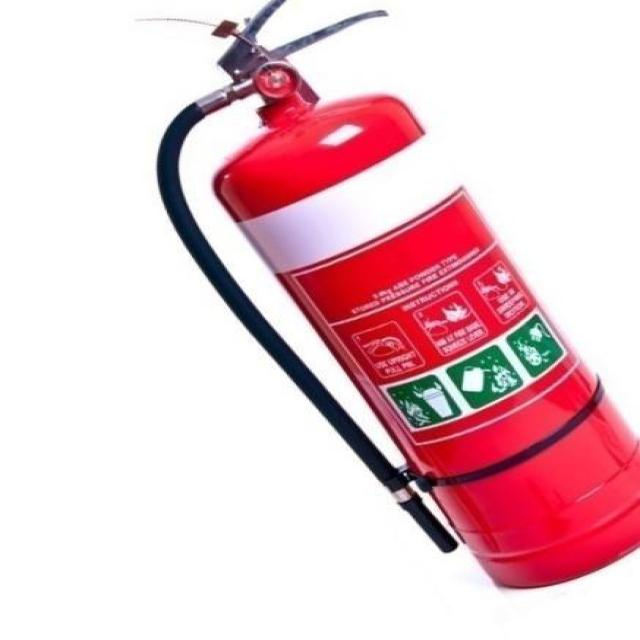fire_extinguisher: (146, 0, 638, 593)
